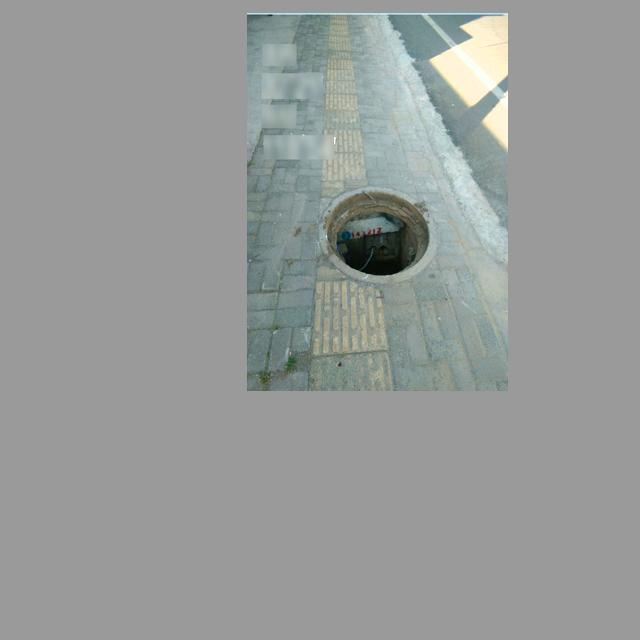lose: (318, 186, 437, 285)
